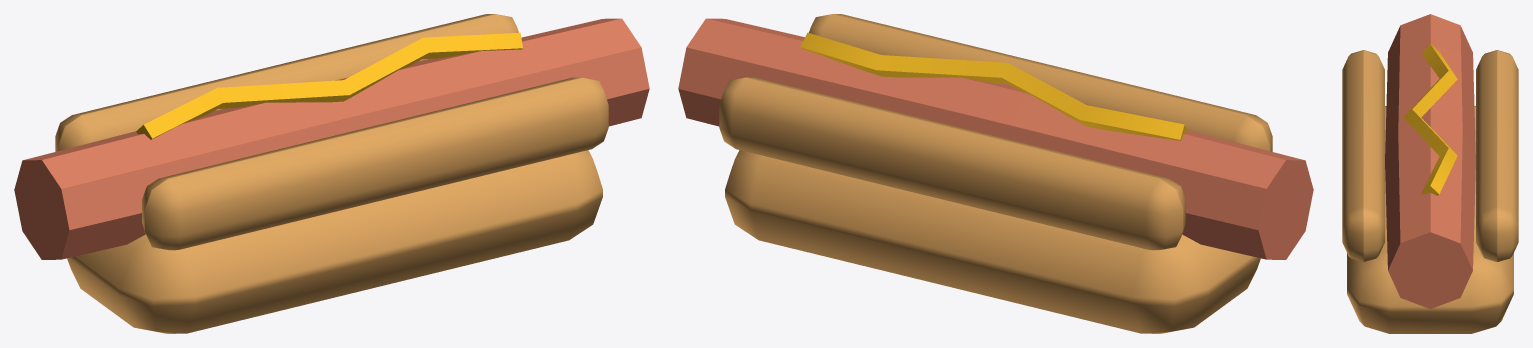
File: HotDog.fbx
3 renders of one model, left to right at view 1: azimuth 30°, elevation 25°; view 2: azimuth 150°, elevation 25°; view 3: azimuth 270°, elevation 25°, orthographic. The views are drawn at different scales.
Visible parts, largest first — view 1: HotDog; view 2: HotDog; view 3: HotDog.
Boxes of the visible parts, x1,y1,x2,y2 form: HotDog: (14, 14, 649, 333); HotDog: (678, 14, 1313, 333); HotDog: (1342, 14, 1518, 333).
Bounding box in the file's own units: 1.7 × 0.55 × 0.58.
Materials: 1 (1 with a texture image).
